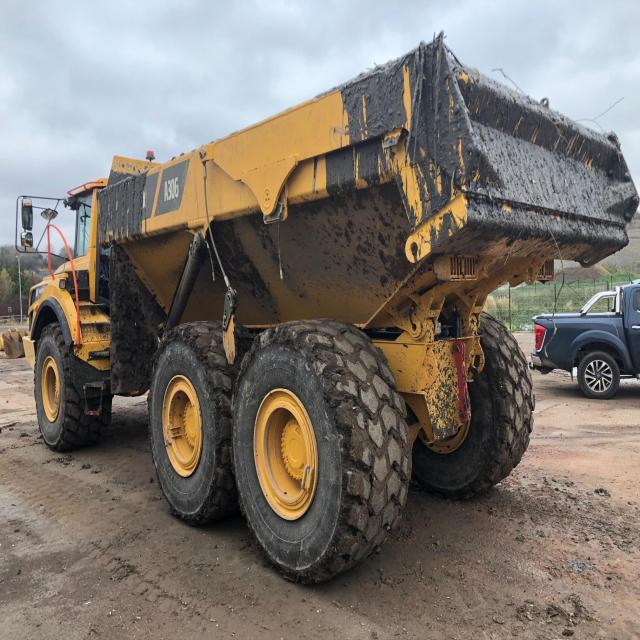dump_truck: (25, 39, 634, 588)
